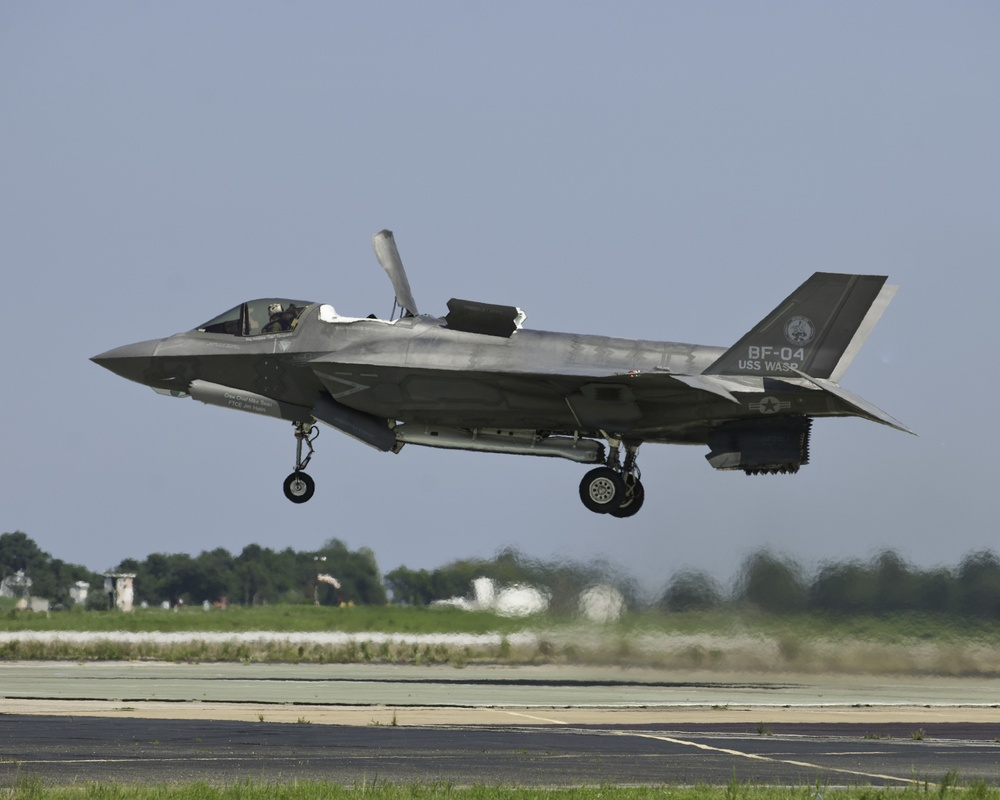F35: (81, 220, 933, 525)
